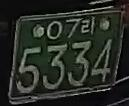0: (46, 19, 63, 41)
3: (42, 43, 67, 91), (67, 41, 92, 88)
4: (93, 37, 112, 82)
5: (17, 45, 42, 93)
7: (64, 18, 81, 40)
리: (82, 16, 96, 36)
